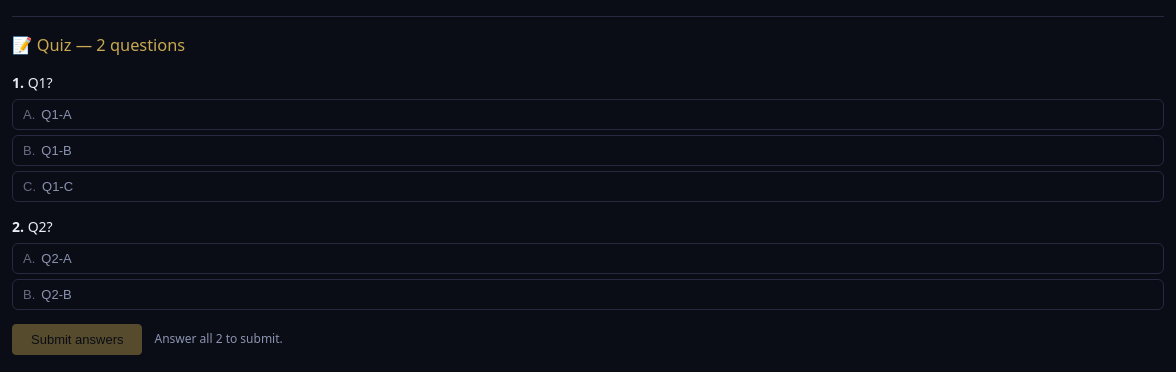
Quiz › marks a wrong answer and scores lower
The image size is (1176, 372).
Click the button "A.Q1-A" at [56, 114], box [12, 99, 1164, 130]
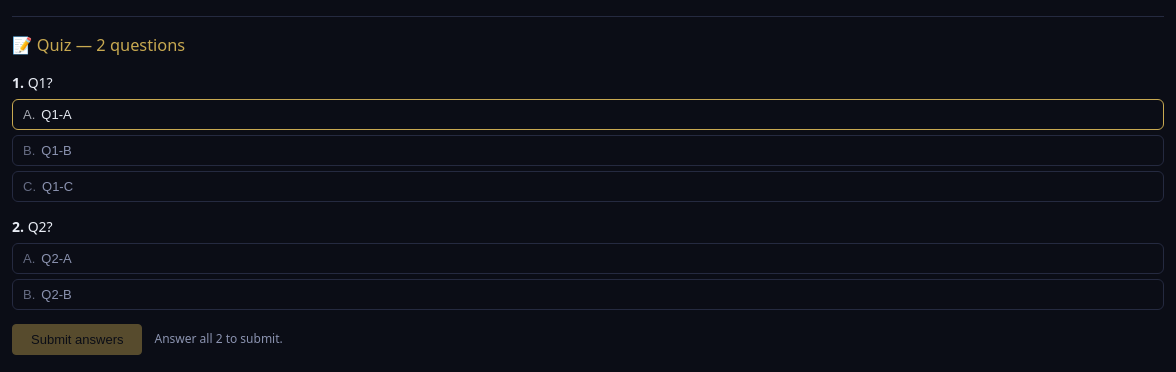
Click the button "A.Q2-A" at [56, 258], box [12, 243, 1164, 274]
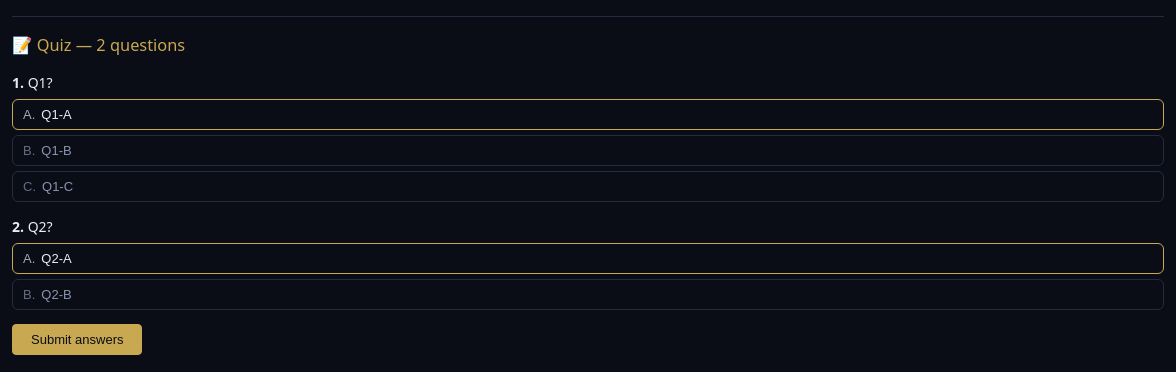
Click the button "Submit answers" at [77, 339], box [12, 324, 142, 355]
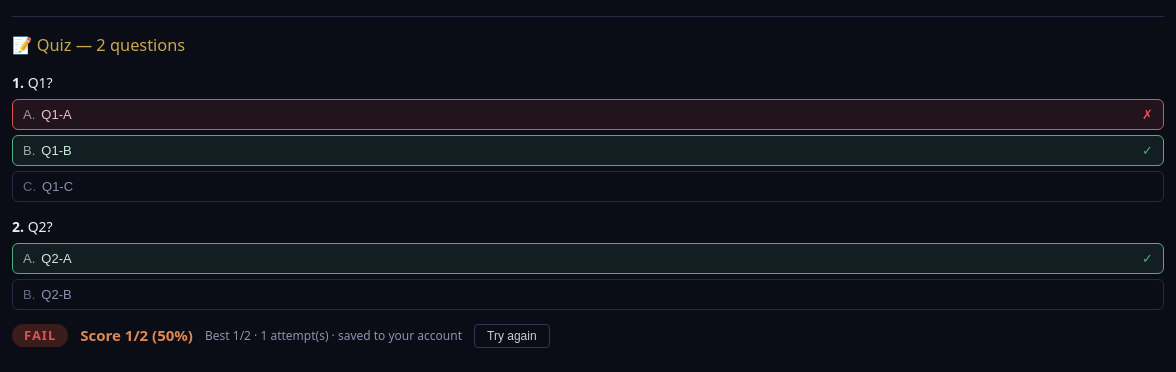
Check: the text "Score 1/2 (50%)" is shown, box [80, 324, 193, 347]
